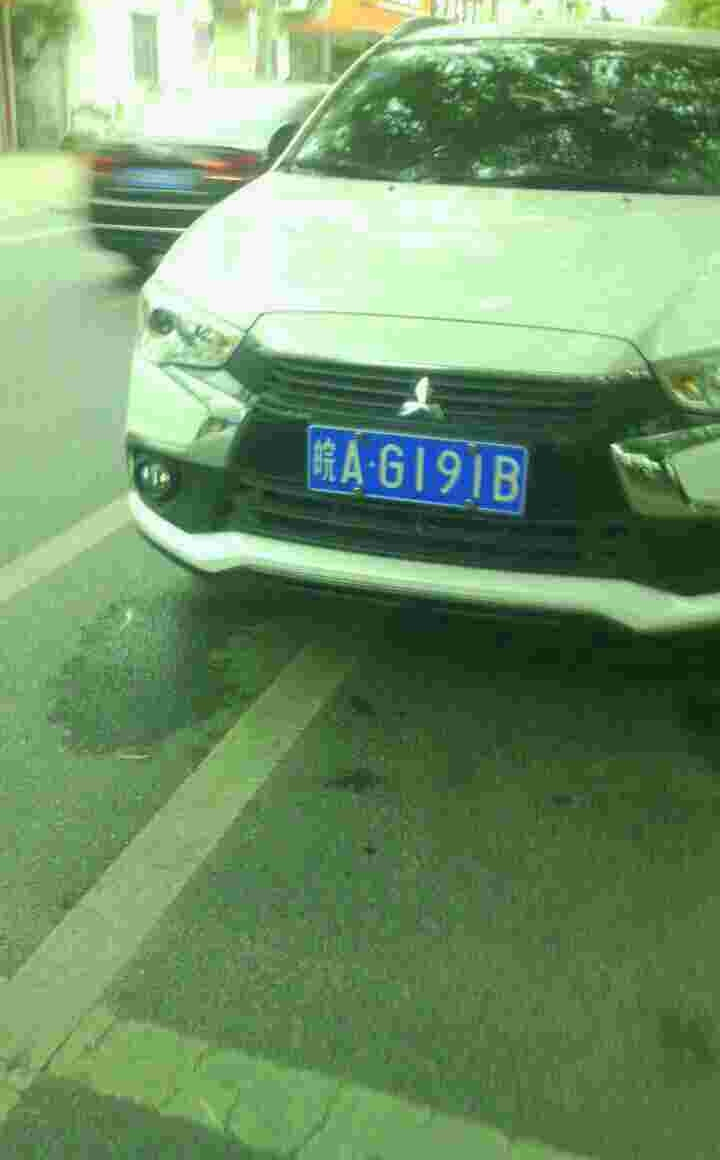plate: (305, 419, 531, 518)
